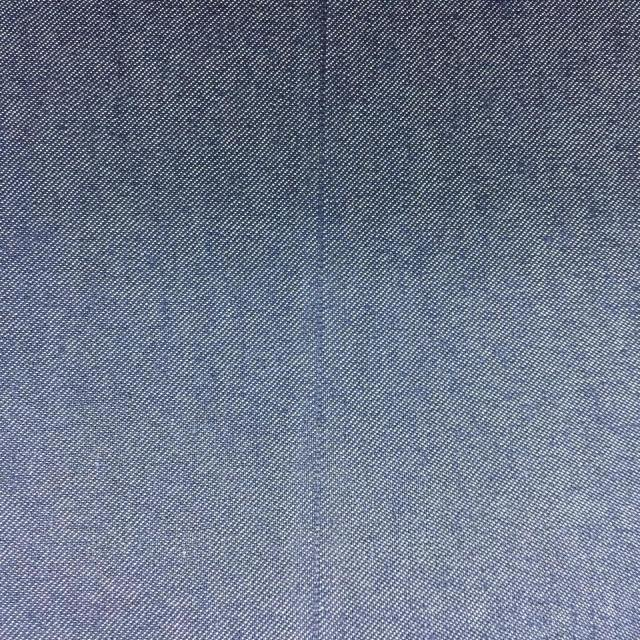Line: (310, 1, 329, 640)
